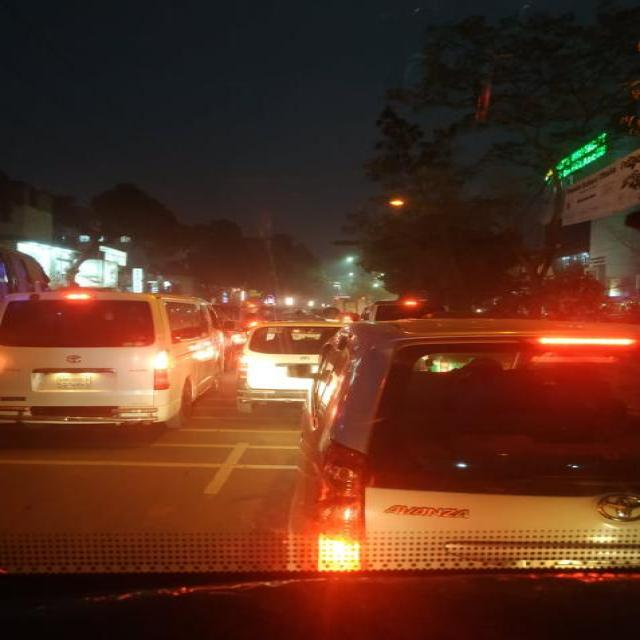car: (282, 317, 637, 567), (234, 318, 347, 417)
van: (2, 286, 231, 436)
